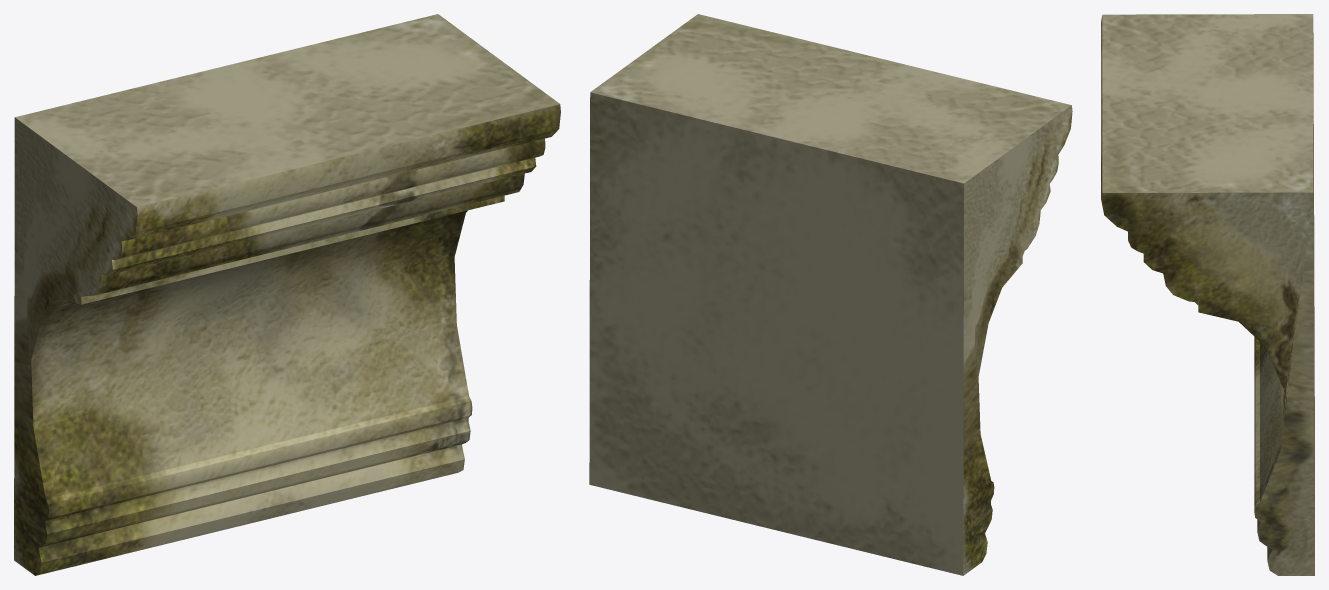
The model's file is Debris_Small_Plaster_03.fbx.
3 views of the same model, side by side, from view 1: azimuth 30°, elevation 25°; view 2: azimuth 150°, elevation 25°; view 3: azimuth 270°, elevation 25° (orthographic). The views are drawn at different scales.
Visible parts, largest first — view 1: Debris_Small_Plaster_03; view 2: Debris_Small_Plaster_03; view 3: Debris_Small_Plaster_03.
Boxes of the visible parts, x1,y1,x2,y2 form: Debris_Small_Plaster_03: [14, 14, 560, 575]; Debris_Small_Plaster_03: [589, 14, 1072, 575]; Debris_Small_Plaster_03: [1101, 14, 1314, 575].
Bounding box in the file's own units: 0.25 × 0.2504 × 0.1265.
